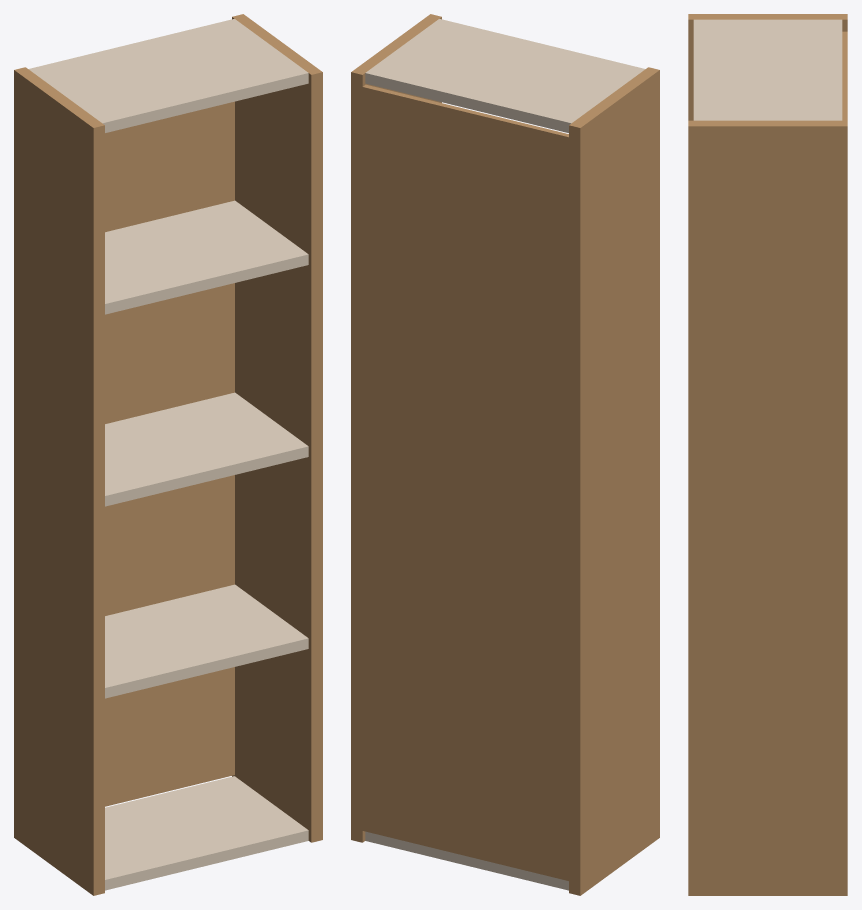
File: booktower.glb
3 views of the same model, side by side, from view 1: azimuth 30°, elevation 25°; view 2: azimuth 150°, elevation 25°; view 3: azimuth 270°, elevation 25° (orthographic).
Visible parts, largest first — view 1: material-0-body, material-1-shelf; view 2: material-0-body, material-1-shelf; view 3: material-0-body, material-1-shelf.
Boxes of the visible parts, x1,y1,x2,y2 form: material-0-body: (14,14,322,895); material-1-shelf: (28,19,308,890); material-0-body: (351,14,659,895); material-1-shelf: (365,19,645,890); material-0-body: (688,14,847,895); material-1-shelf: (693,19,842,120).
Size of the model in its own units: 0.5 by 1.6 by 0.3.
